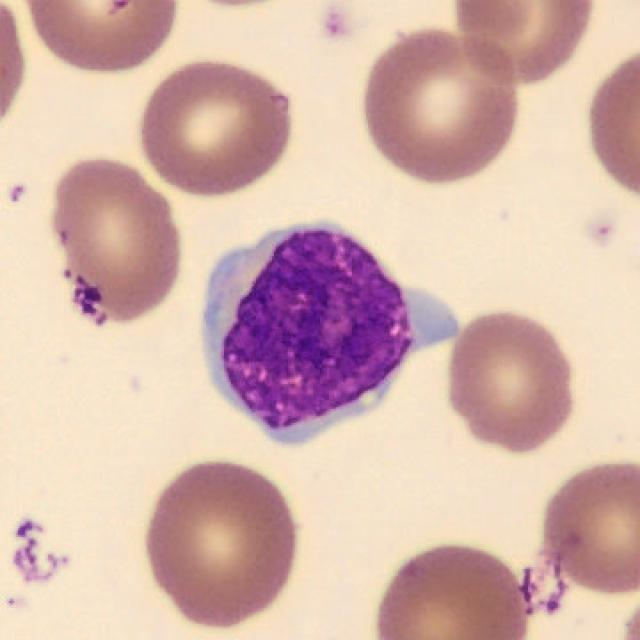Linfocito: (201, 226, 416, 446)
